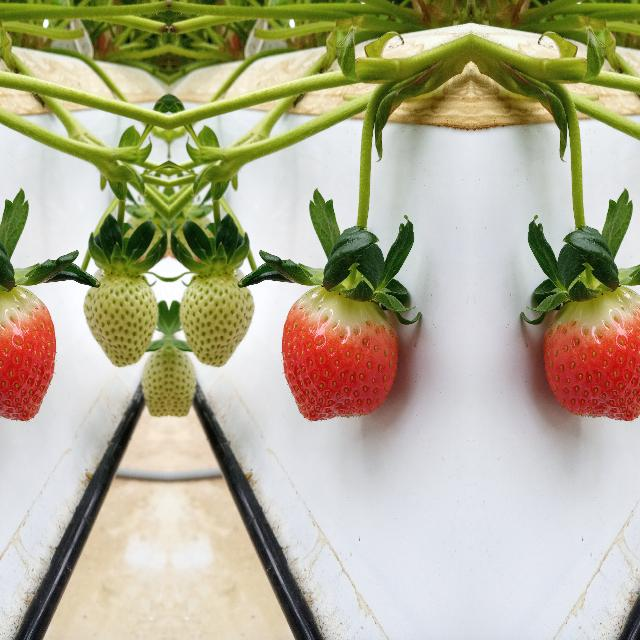Health_25: (172, 262, 258, 374), (78, 262, 164, 374)
Health_75: (279, 285, 399, 423), (542, 285, 640, 423), (0, 285, 57, 423)
